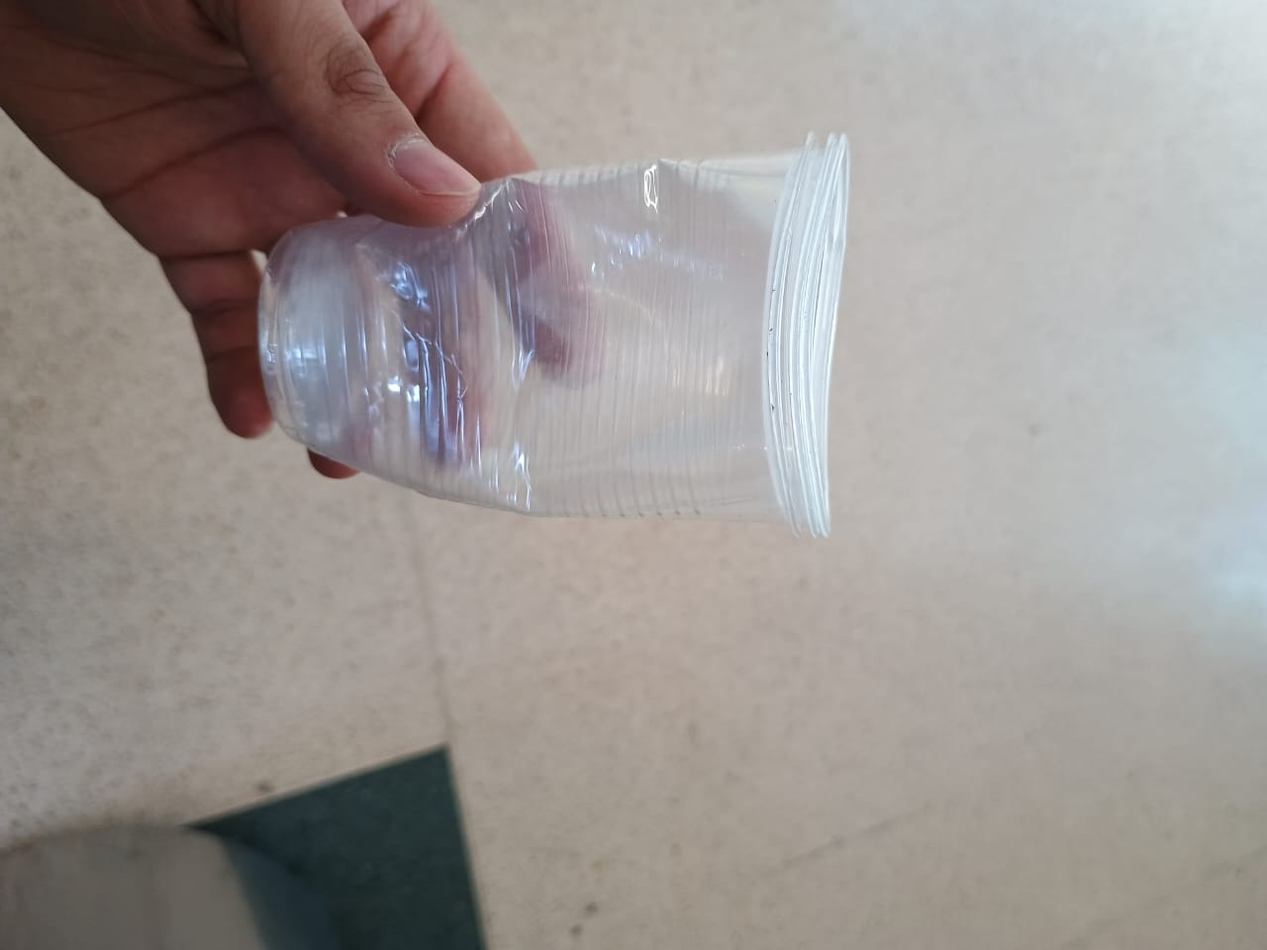Plastico: (260, 132, 852, 537)
